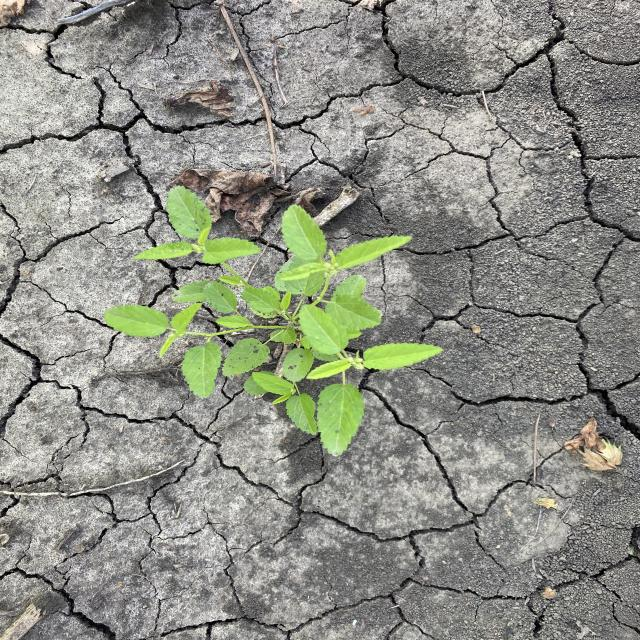PricklySida: (102, 184, 445, 458)
